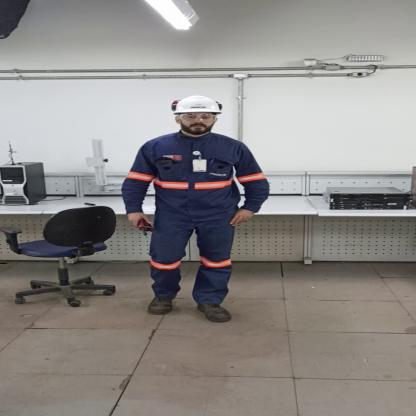Capacete: (169, 93, 226, 114)
